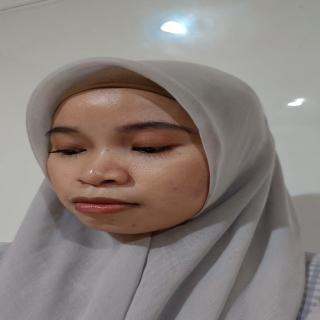Sedih: (41, 68, 235, 250)
